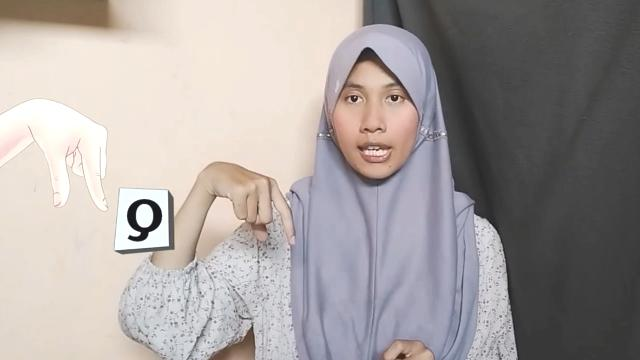Q: (201, 158, 299, 250)
